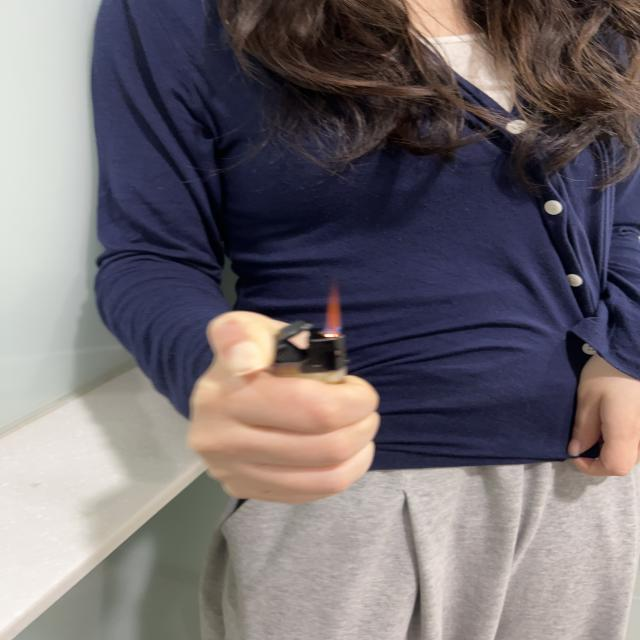fire: (327, 283, 343, 336)
